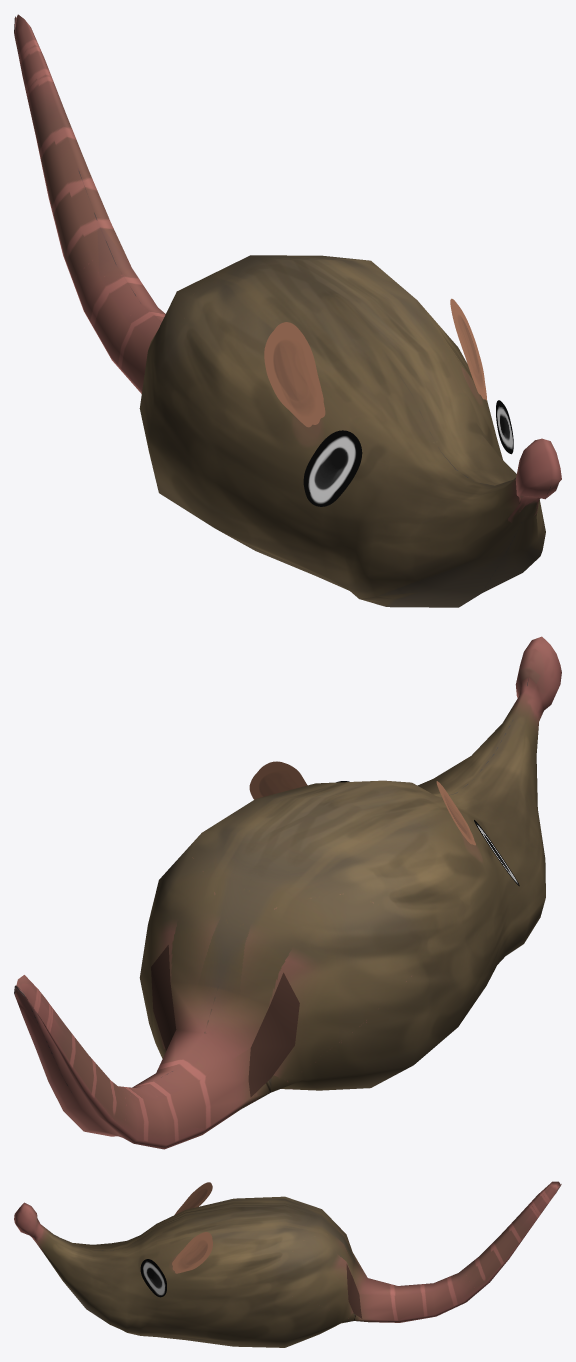
The model's file is Rat.fbx.
The picture shows the model from 3 angles, top to bottom: view 1: azimuth 30°, elevation 25°; view 2: azimuth 150°, elevation 25°; view 3: azimuth 270°, elevation 25°; orthographic projection. The views are drawn at different scales.
Parts seen in each view (by area): view 1: Eye.004; view 2: Eye.004; view 3: Eye.004.
Part boxes in pixels (box(x1,y1,x2,y2)): Eye.004: box(14, 14, 561, 607); Eye.004: box(14, 636, 561, 1149); Eye.004: box(14, 1181, 561, 1347).
Bounding box in the file's own units: 258 × 266 × 876.
1 material, 1 textured.
